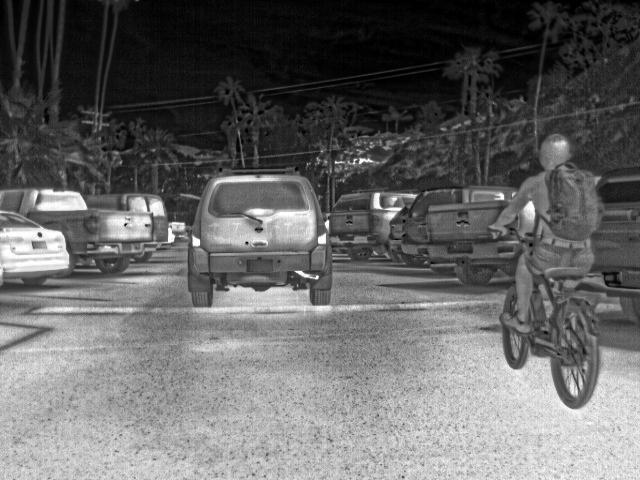car: (187, 164, 334, 308), (2, 188, 154, 276), (408, 185, 520, 267), (424, 201, 506, 287), (329, 190, 420, 264), (84, 192, 170, 264), (1, 211, 71, 290), (591, 218, 640, 324), (597, 164, 640, 219), (388, 209, 414, 263), (168, 220, 188, 246)
person: (488, 130, 606, 334)
